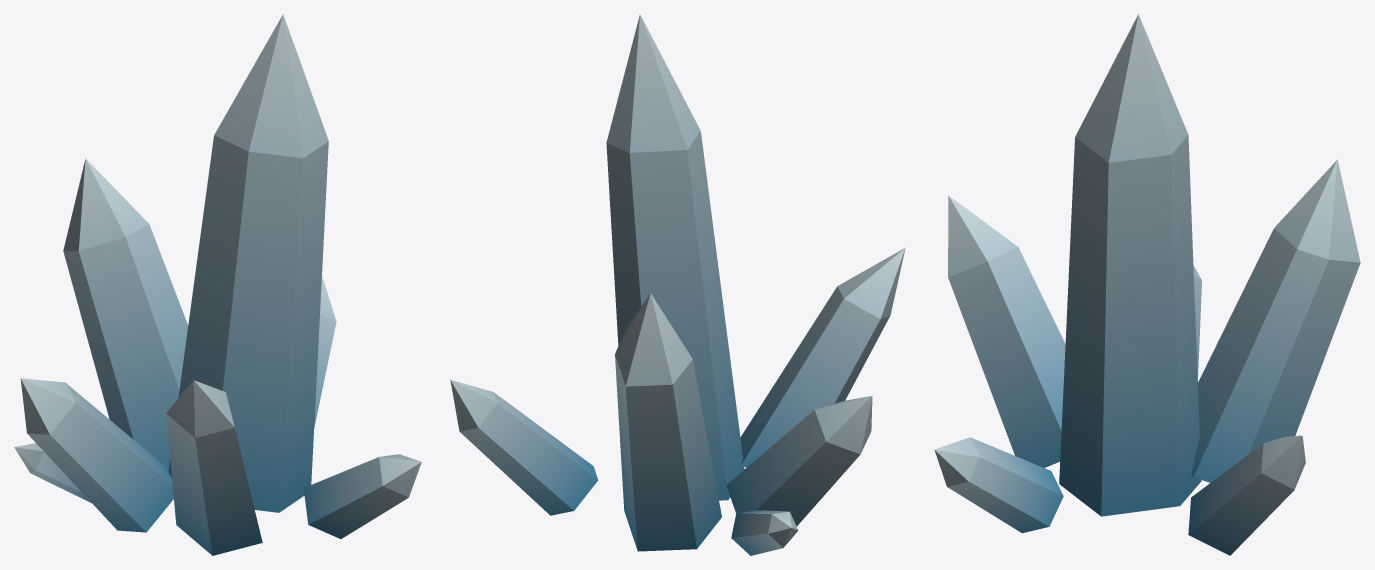
Rendered from east_starglass.glb.
The picture shows the model from 3 angles, left to right: view 1: azimuth 30°, elevation 25°; view 2: azimuth 150°, elevation 25°; view 3: azimuth 270°, elevation 25°; orthographic projection. The views are drawn at different scales.
Visible parts, largest first — view 1: east_starglass; view 2: east_starglass; view 3: east_starglass.
Boxes of the visible parts, box(x1,y1,x2,y2) form: east_starglass: box(14, 14, 421, 555); east_starglass: box(450, 14, 905, 555); east_starglass: box(934, 14, 1360, 555).
Bounding box in the file's own units: 2.25 × 2.88 × 2.15.
